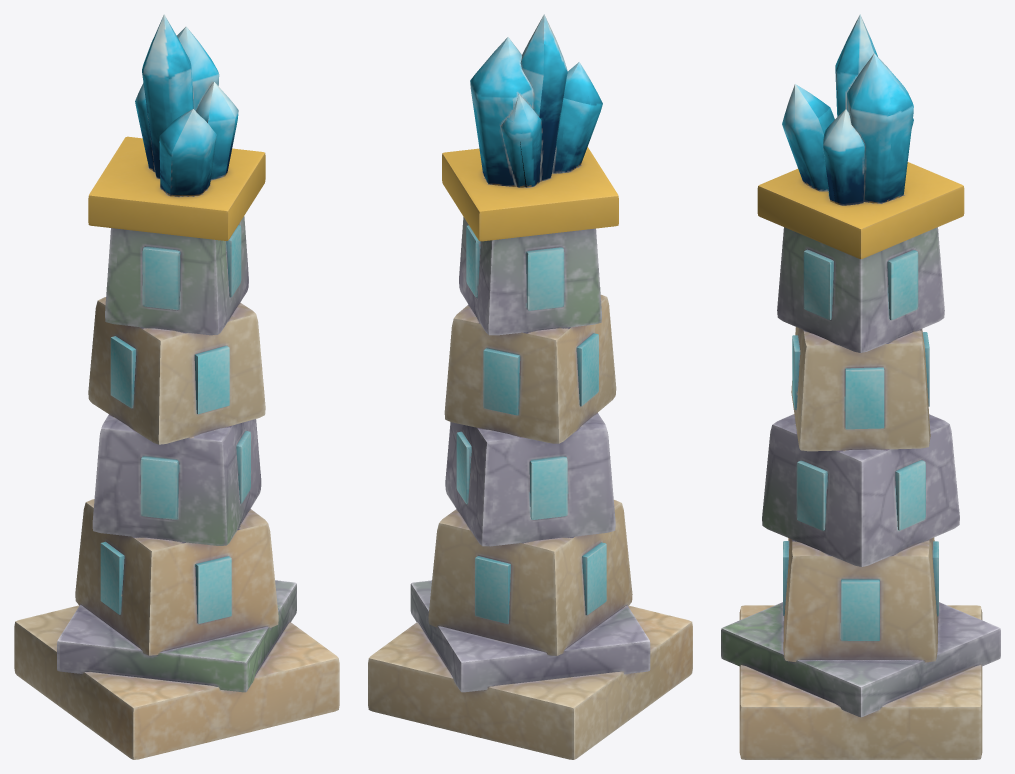
File: TotemEnergie.fbx
3 renders of one model, left to right at view 1: azimuth 30°, elevation 25°; view 2: azimuth 150°, elevation 25°; view 3: azimuth 270°, elevation 25°, orthographic.
Visible parts, largest first — view 1: TotemEnergie; view 2: TotemEnergie; view 3: TotemEnergie.
Boxes of the visible parts, x1,y1,x2,y2 form: TotemEnergie: (14, 14, 339, 759); TotemEnergie: (368, 14, 692, 759); TotemEnergie: (721, 14, 1000, 759).
Size of the model in its own units: 647 by 1758 by 647.
1 material, 1 textured.
